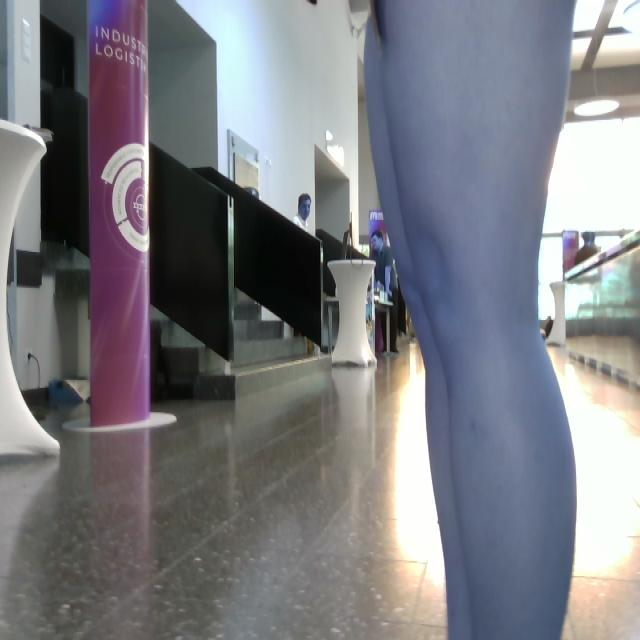light bulb: (1, 120, 60, 456)
person: (370, 229, 400, 354), (293, 193, 312, 232)
